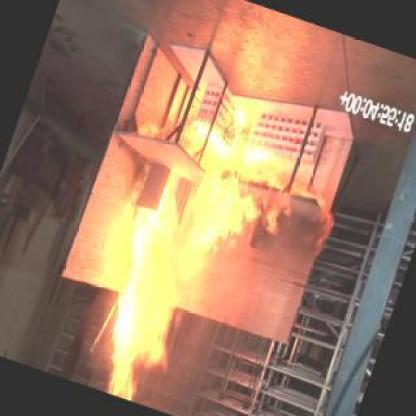Fire: (74, 78, 312, 415)
